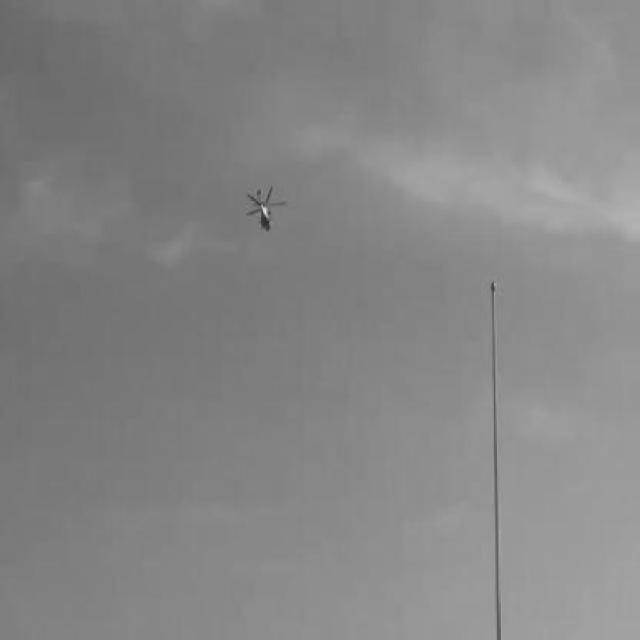helikopter: (239, 185, 287, 238)
